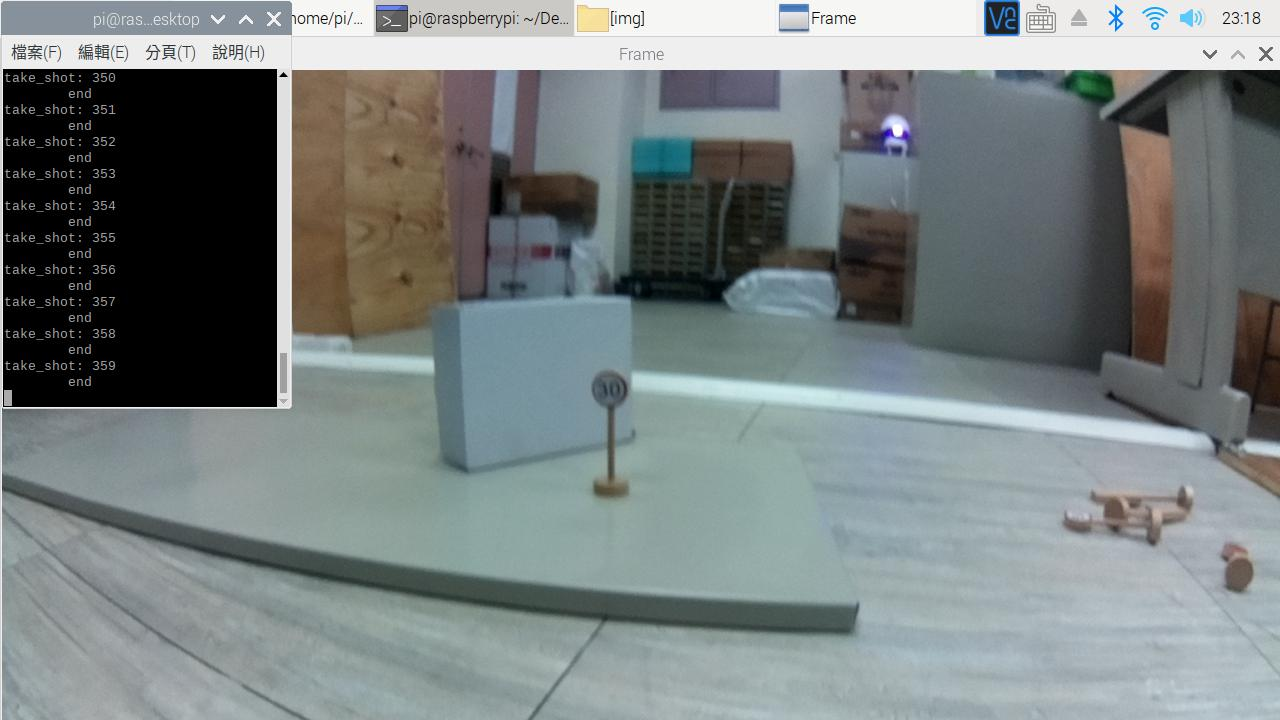Speed30: (578, 365, 643, 424)
